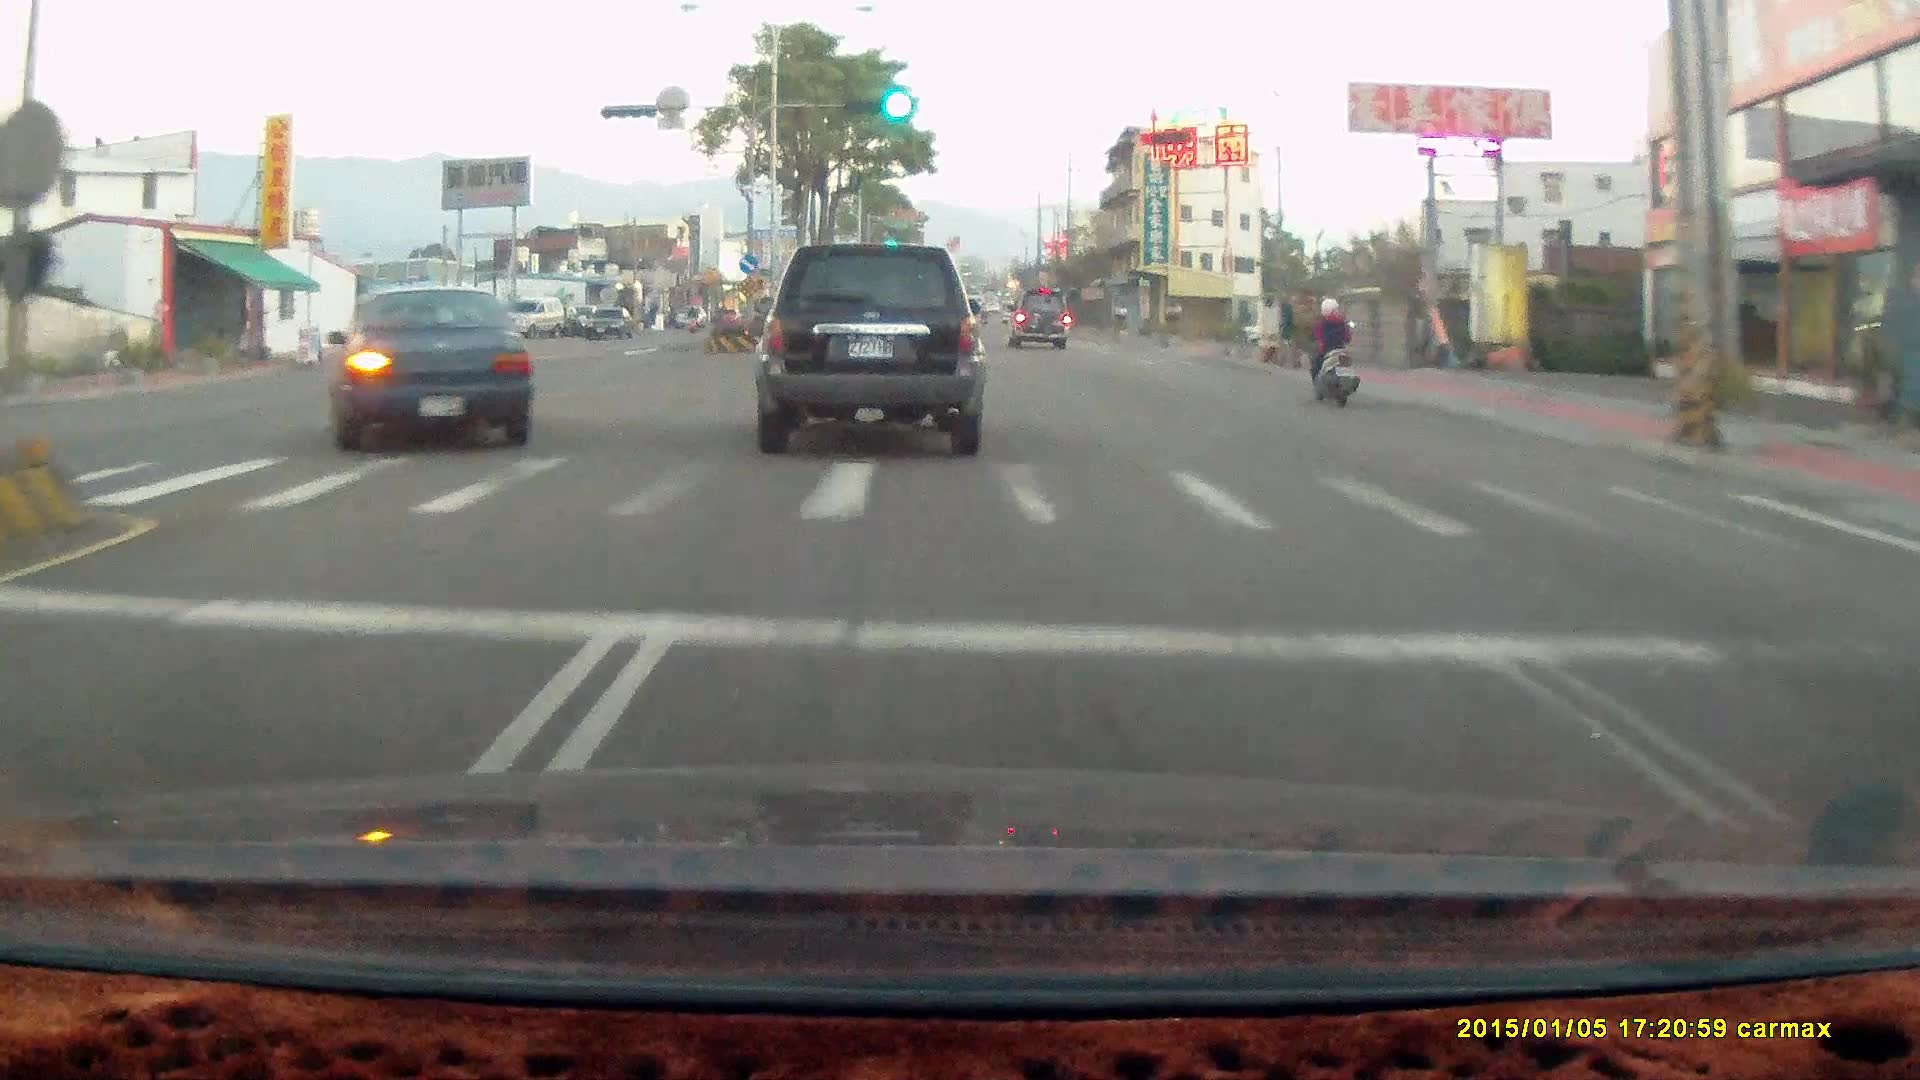rider: (1291, 287, 1371, 416), (1302, 290, 1360, 405)
vehicle: (759, 245, 989, 457), (753, 240, 982, 452), (324, 282, 532, 452), (332, 280, 533, 453), (1010, 287, 1073, 356), (1004, 288, 1068, 348), (493, 295, 565, 338), (581, 301, 633, 336)
